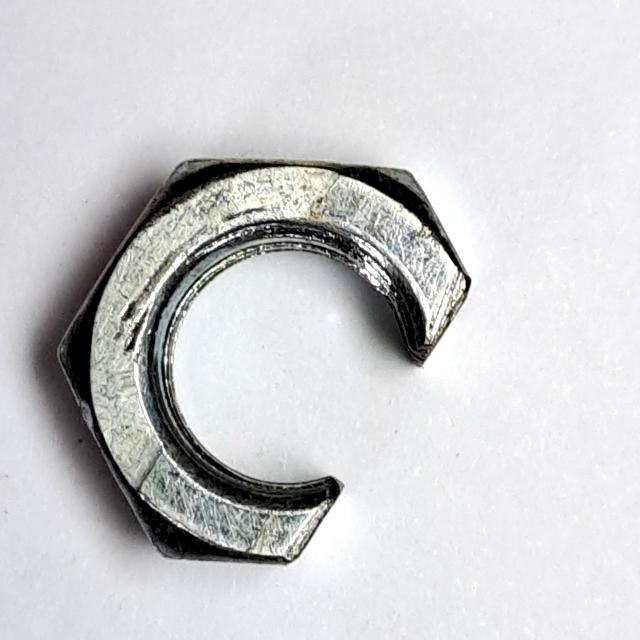Fracture: (49, 143, 494, 584)
